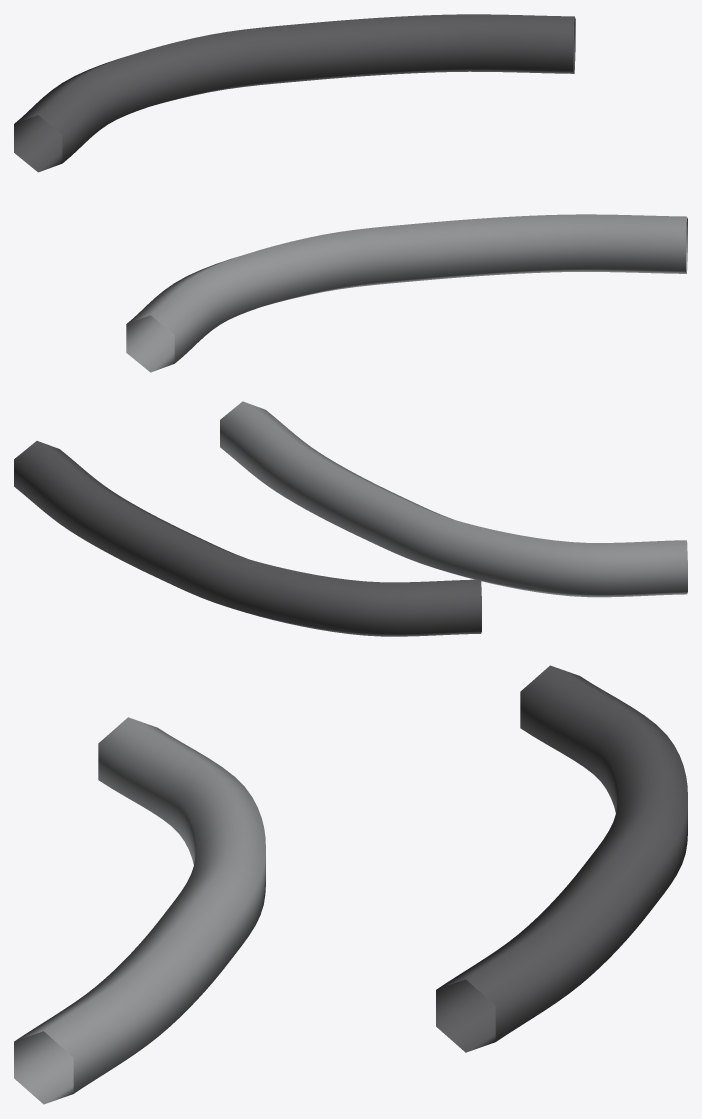
3 renders of one model, top to bottom at view 1: azimuth 30°, elevation 25°; view 2: azimuth 150°, elevation 25°; view 3: azimuth 270°, elevation 25°, orthographic. The views are drawn at different scales.
Bounding box in the file's own units: 0.3303 × 0.0672 × 0.2595.
